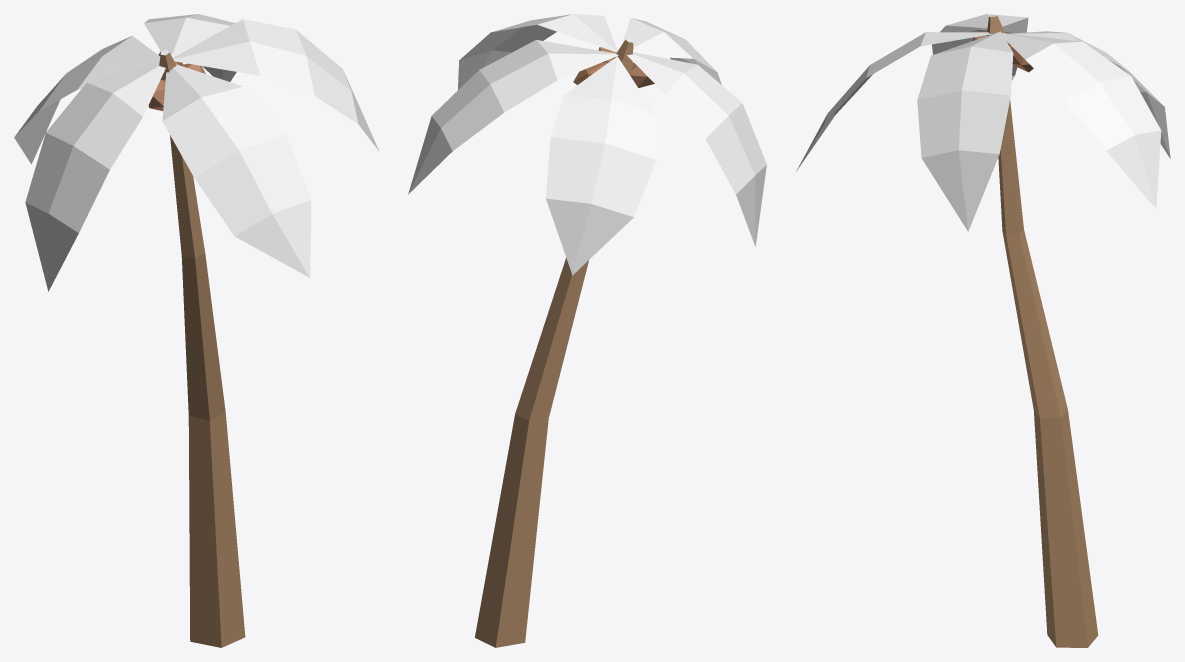
The model's file is Palm_Tree_Coconut_OneSided_s_Snow_06_LOD.fbx.
3 renders of one model, left to right at view 1: azimuth 30°, elevation 25°; view 2: azimuth 150°, elevation 25°; view 3: azimuth 270°, elevation 25°, orthographic. The views are drawn at different scales.
Parts seen in each view (by area): view 1: Palm_Tree_Coconut_OneSided_s_Snow_06_LOD0; view 2: Palm_Tree_Coconut_OneSided_s_Snow_06_LOD0; view 3: Palm_Tree_Coconut_OneSided_s_Snow_06_LOD0.
Boxes of the visible parts, bbox=[...] form: Palm_Tree_Coconut_OneSided_s_Snow_06_LOD0: bbox=[14, 14, 379, 647]; Palm_Tree_Coconut_OneSided_s_Snow_06_LOD0: bbox=[408, 14, 766, 647]; Palm_Tree_Coconut_OneSided_s_Snow_06_LOD0: bbox=[796, 14, 1170, 647].
Size of what is drawn, in the model's own units: 211 by 393 by 229.
